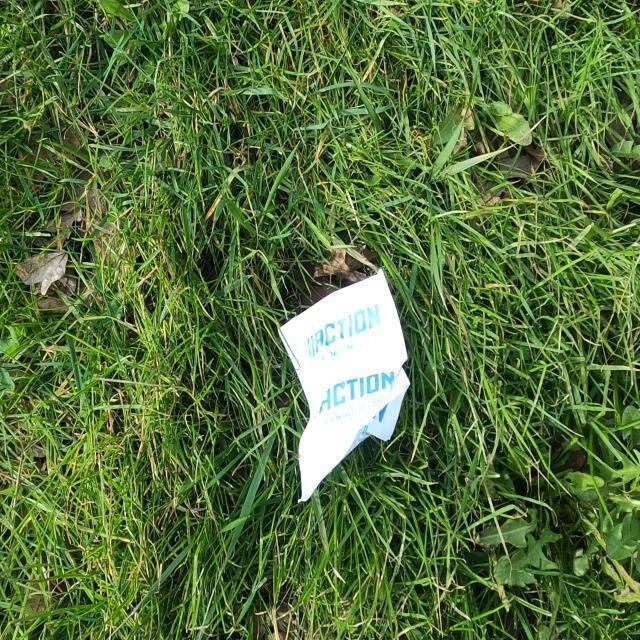Paper: (275, 264, 413, 508)
